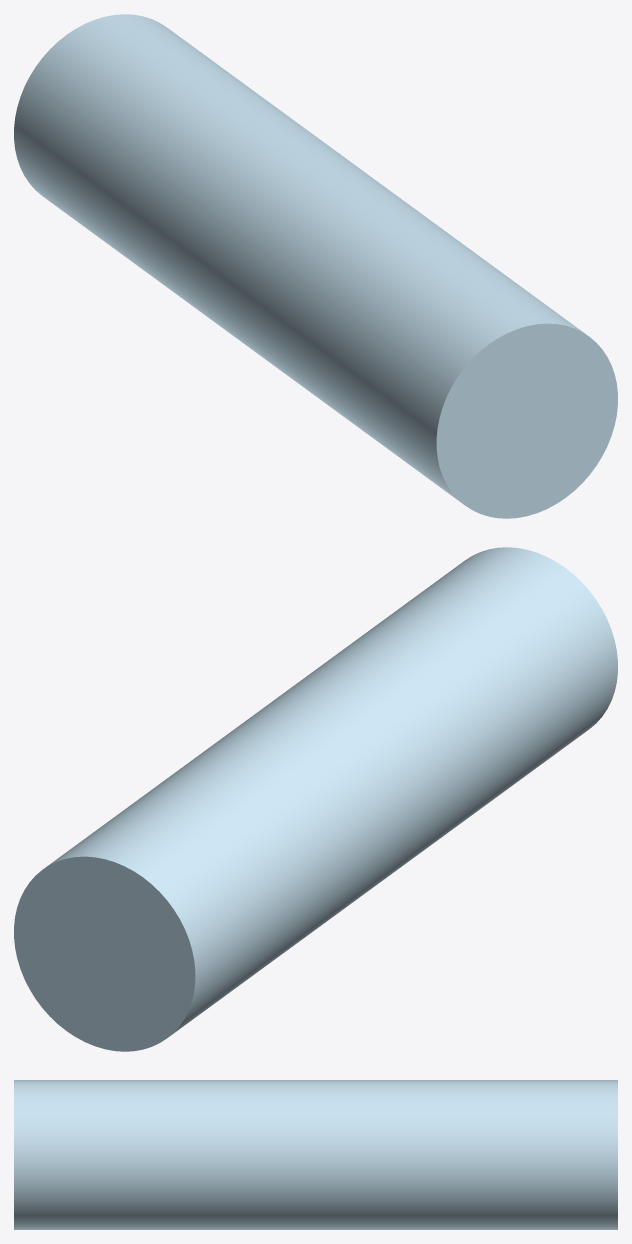
Rendered from cilindro.gltf.
The picture shows the model from 3 angles, top to bottom: view 1: azimuth 30°, elevation 25°; view 2: azimuth 150°, elevation 25°; view 3: azimuth 270°, elevation 25°; orthographic projection. The views are drawn at different scales.
Parts seen in each view (by area): view 1: Part 1; view 2: Part 1; view 3: Part 1.
Boxes of the visible parts, box(x1,y1,x2,y2) form: Part 1: box(14, 14, 617, 518); Part 1: box(14, 547, 617, 1051); Part 1: box(14, 1080, 617, 1229).
Bounding box in the file's own units: 0.0198 × 0.0199 × 0.08.
